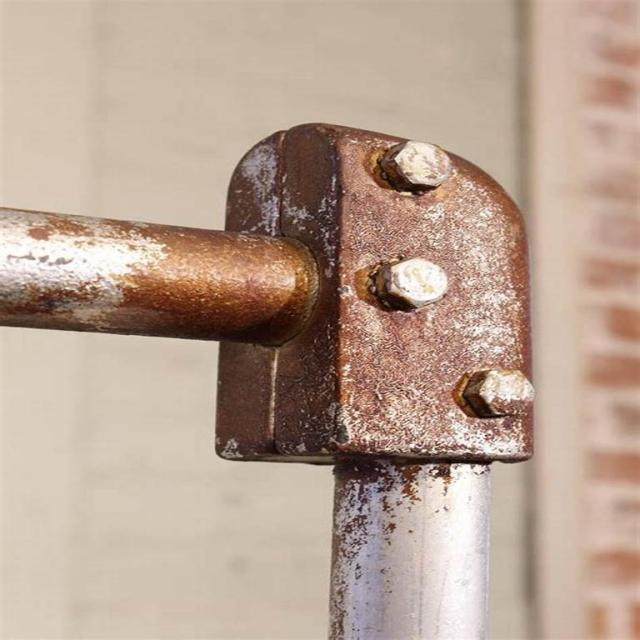bolt head: (379, 138, 458, 193), (375, 255, 451, 312), (462, 369, 538, 418)
